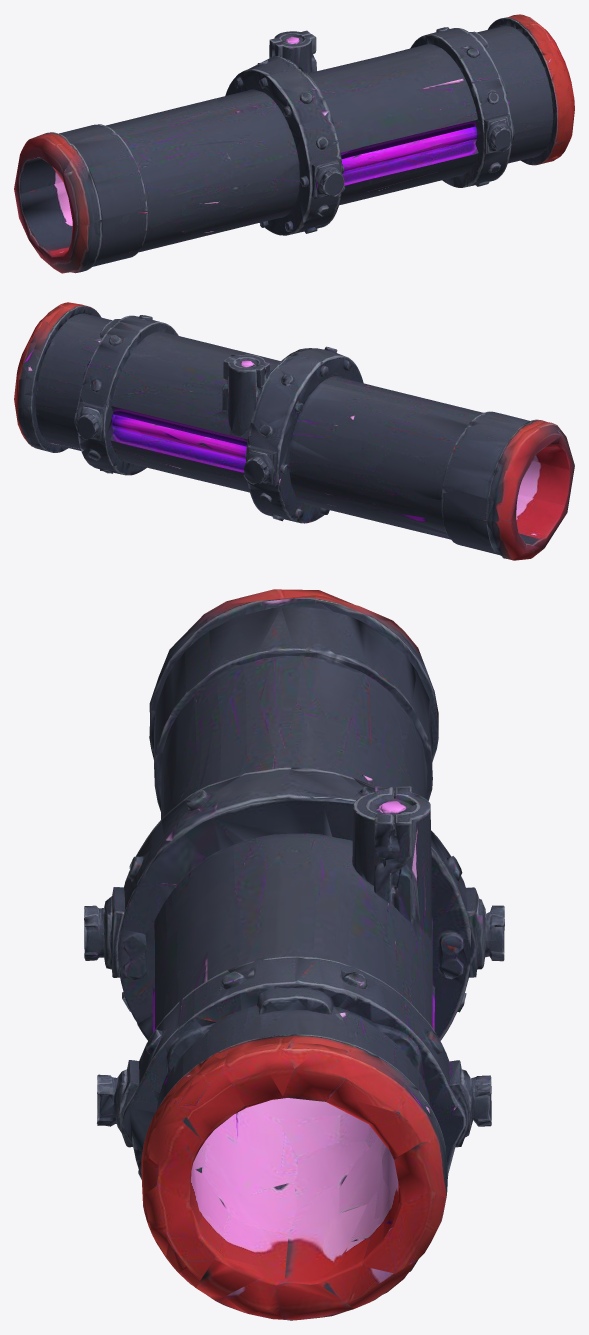
The model's file is cannon-barrel.glb.
3 renders of one model, top to bottom at view 1: azimuth 30°, elevation 25°; view 2: azimuth 150°, elevation 25°; view 3: azimuth 270°, elevation 25°, orthographic. The views are drawn at different scales.
Bounding box in the file's own units: 1.9 × 0.5876 × 0.7008.
Materials: 1 (1 with a texture image).
